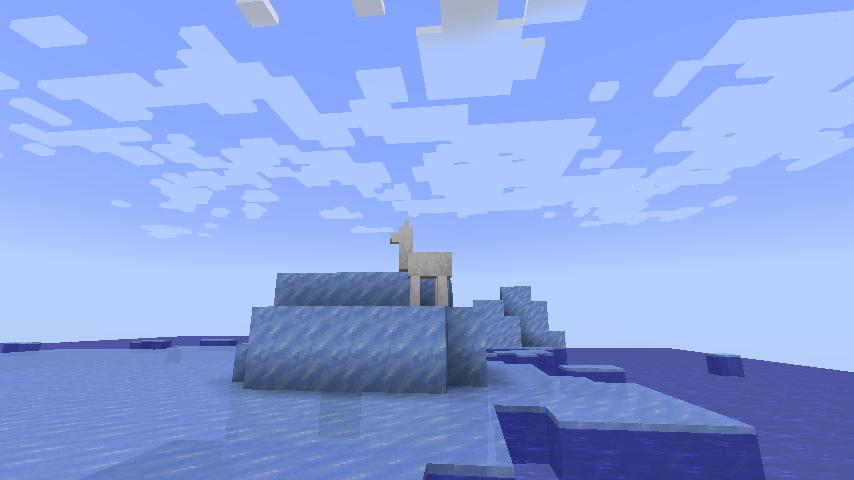llama: (386, 216, 457, 310)
